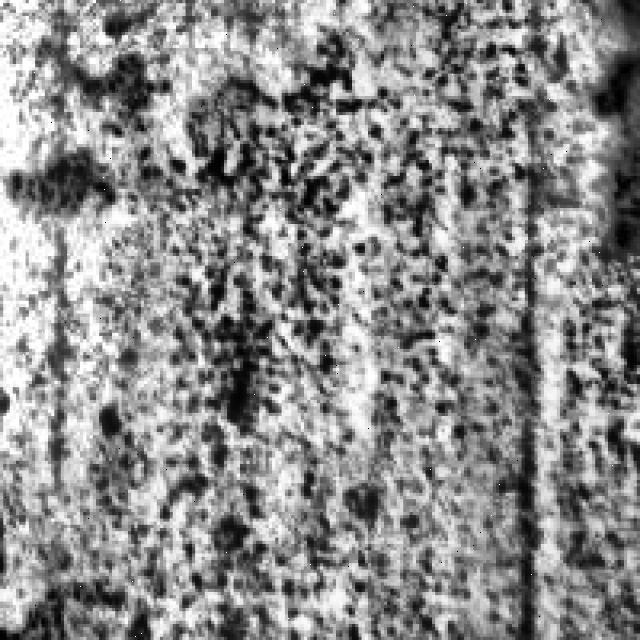Rolled_in_Scale: (67, 16, 576, 618)
Scratches: (3, 138, 109, 218)
